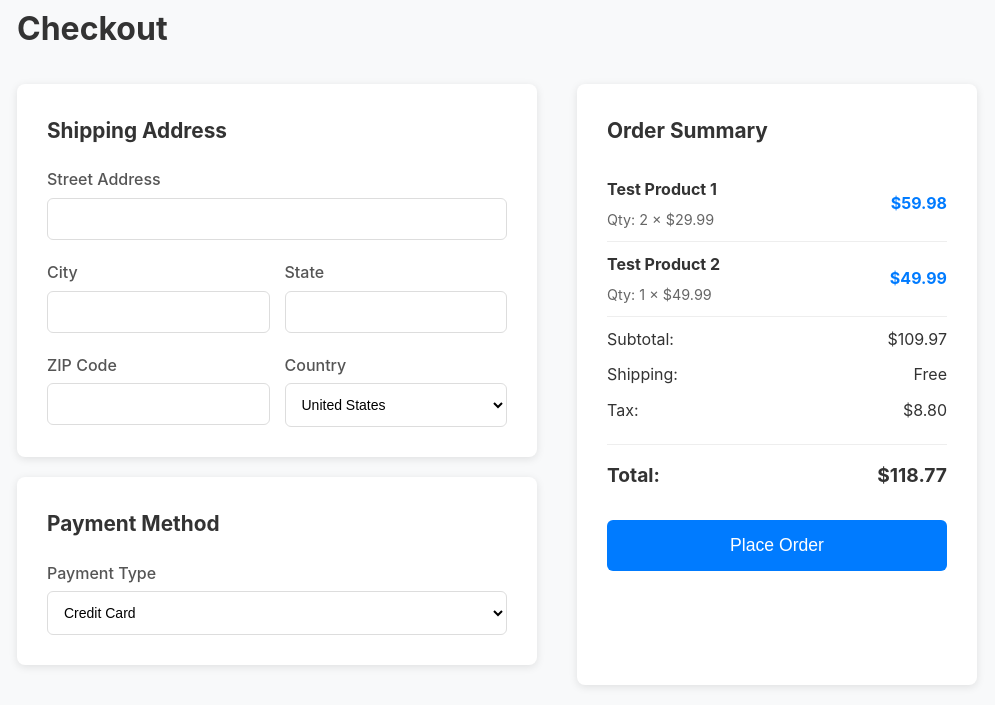
Checkout Page › Order Placement › handles order placement error
In the field labelled "Street Address": (277, 219) [47, 198, 507, 240], type "123 Main St"
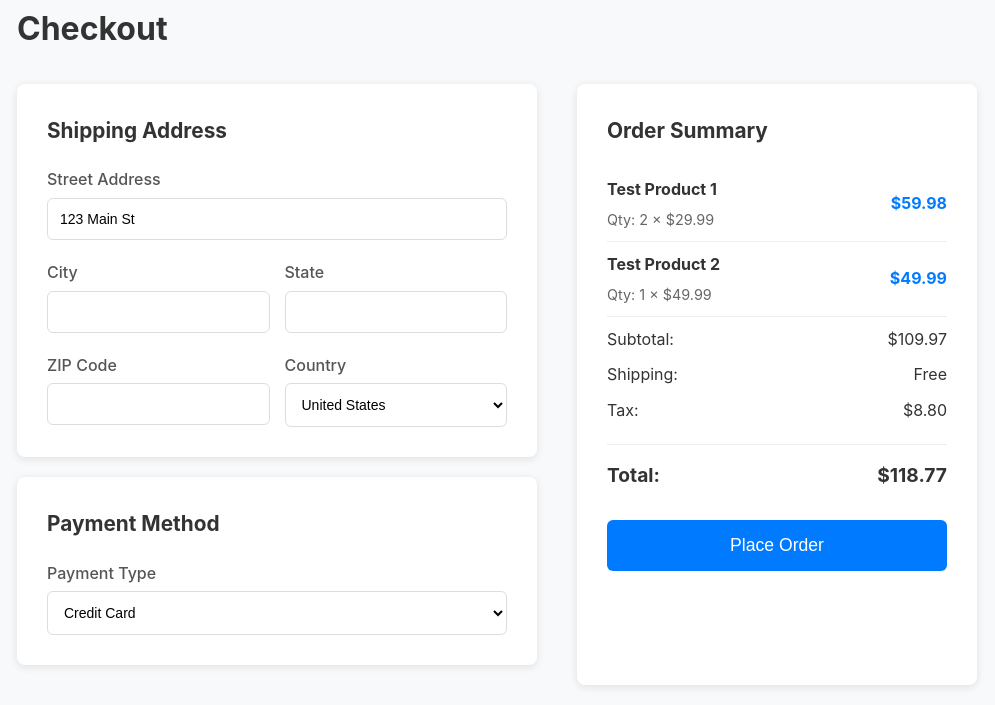
In the field labelled "City": (158, 312) [47, 291, 270, 333], type "Anytown"
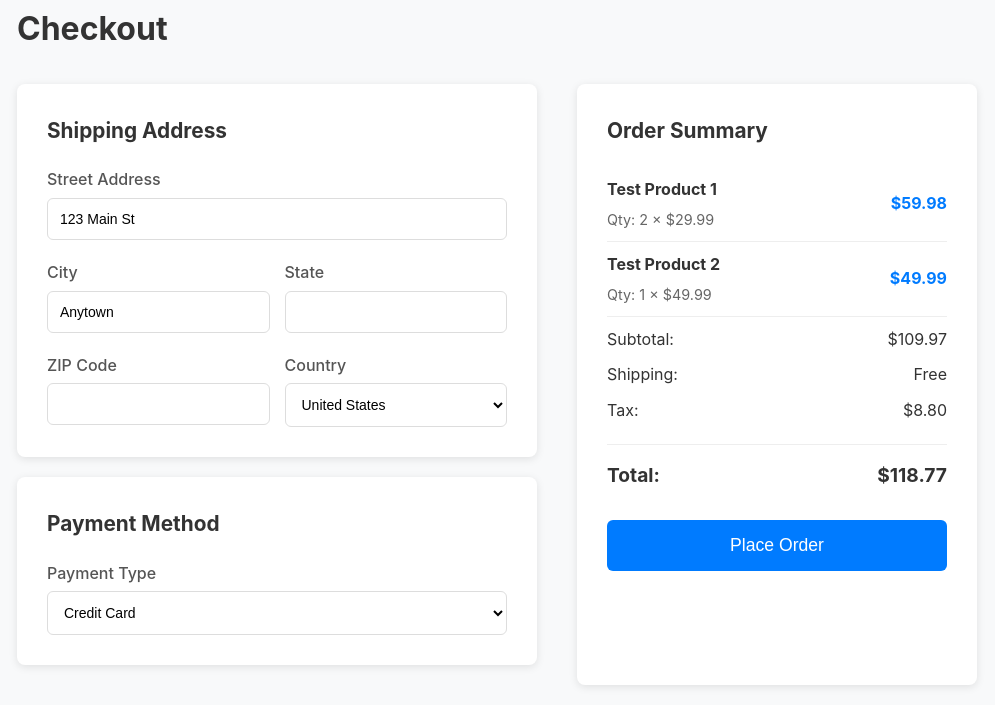
In the field labelled "State": (396, 312) [284, 291, 507, 333], type "CA"
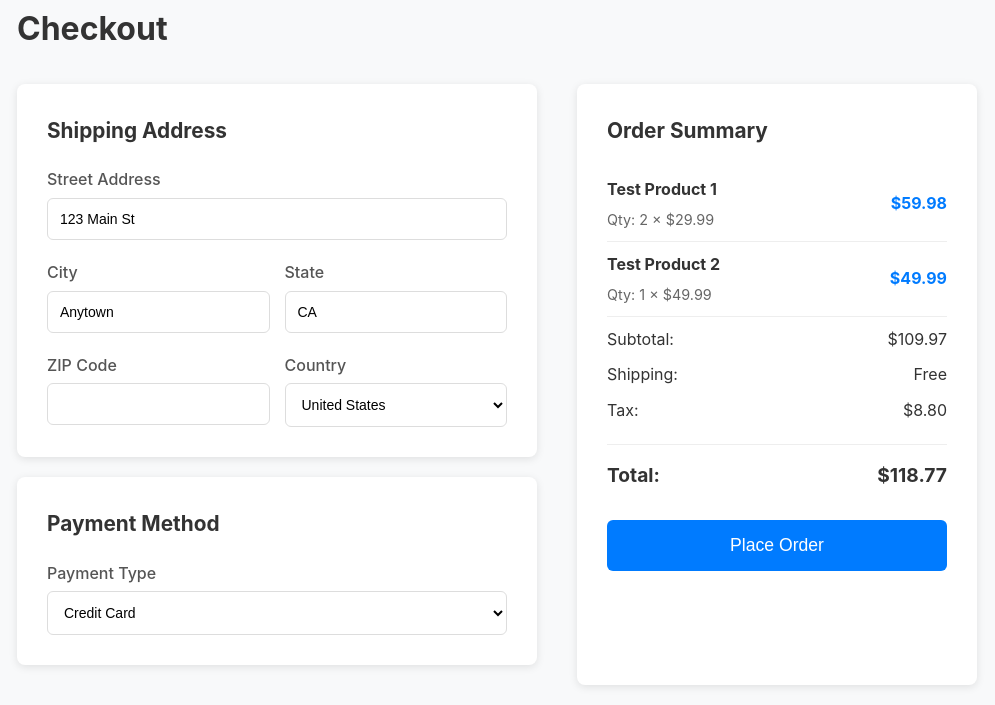
In the field labelled "ZIP Code": (158, 404) [47, 383, 270, 425], type "12345"
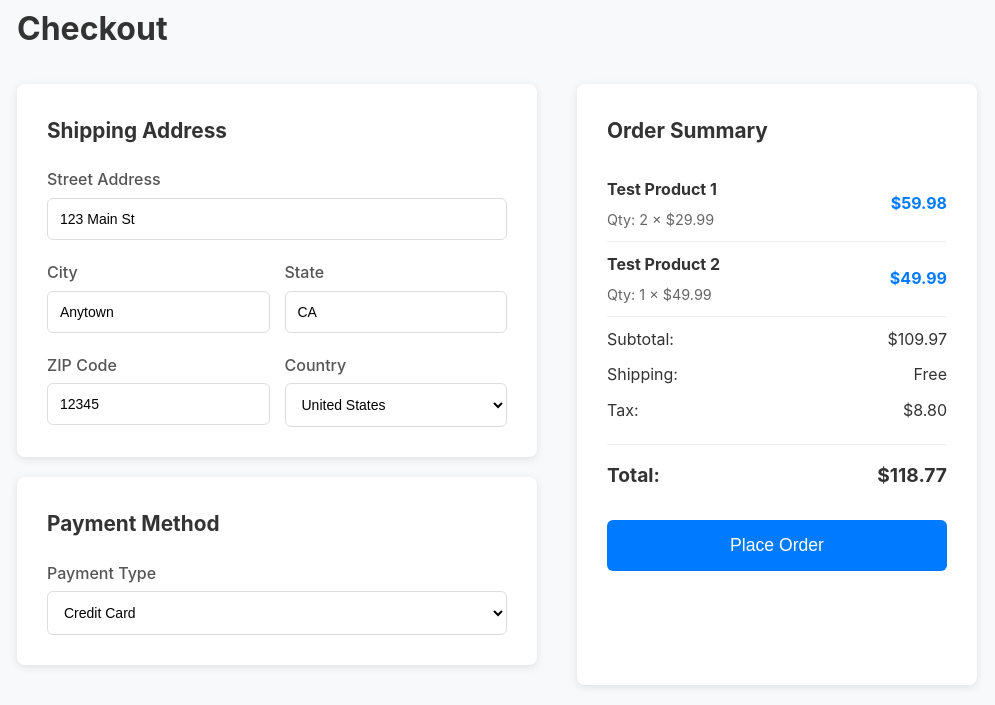
Click the button "Place Order": (777, 546) [607, 520, 947, 571]
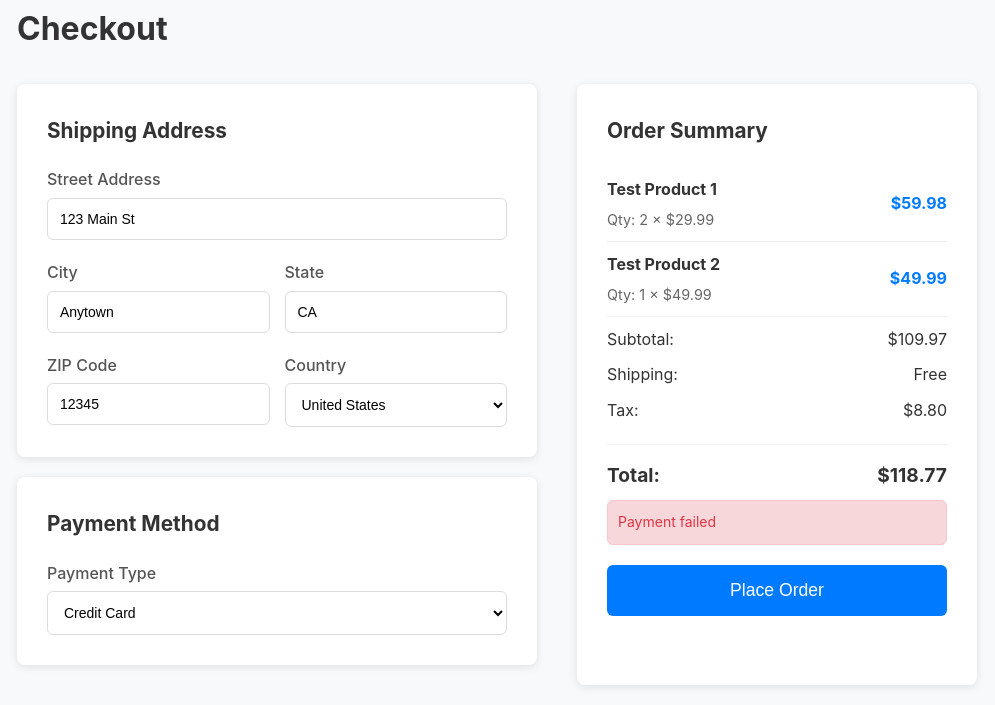
Expected: the button "Place Order" is enabled, [607, 565, 947, 616]
Result: the text "Payment failed" is shown at [607, 500, 947, 545]
